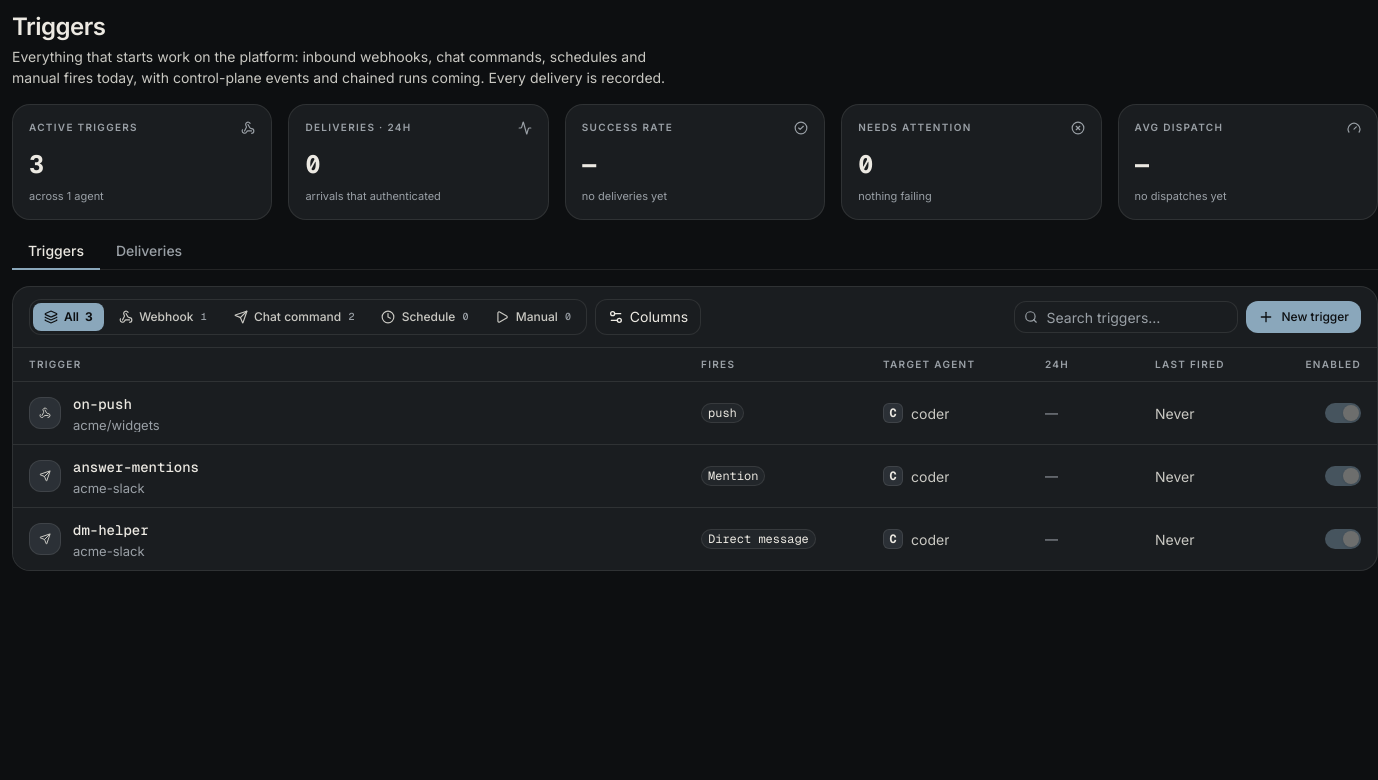
Test: the kind filter › lists no chat command under Webhook
Click the button "Webhook 1" at (163, 317), box top-left (108, 303), bottom-right (219, 331)
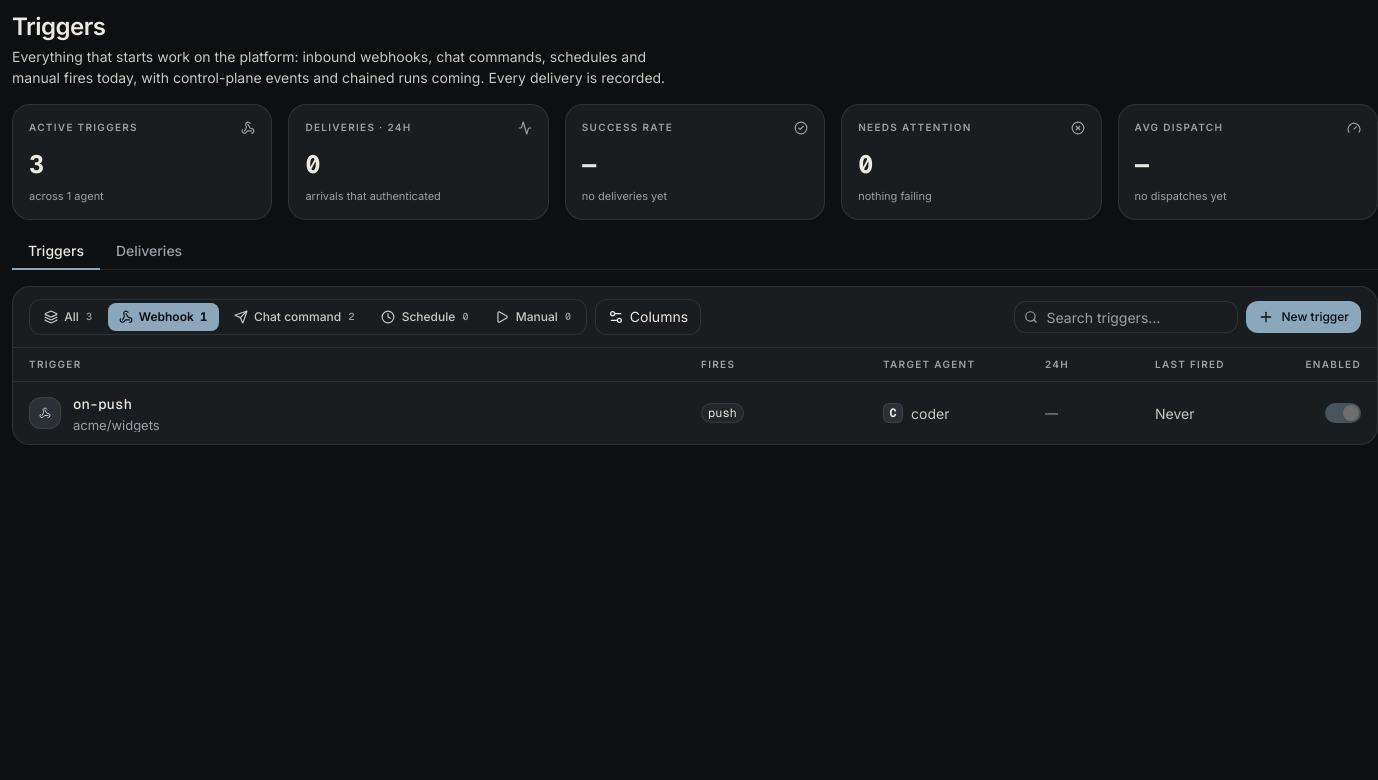
expect the text "on-push" is shown: met, box top-left (73, 394), bottom-right (132, 415)
expect the text "answer-mentions" is gone: met
